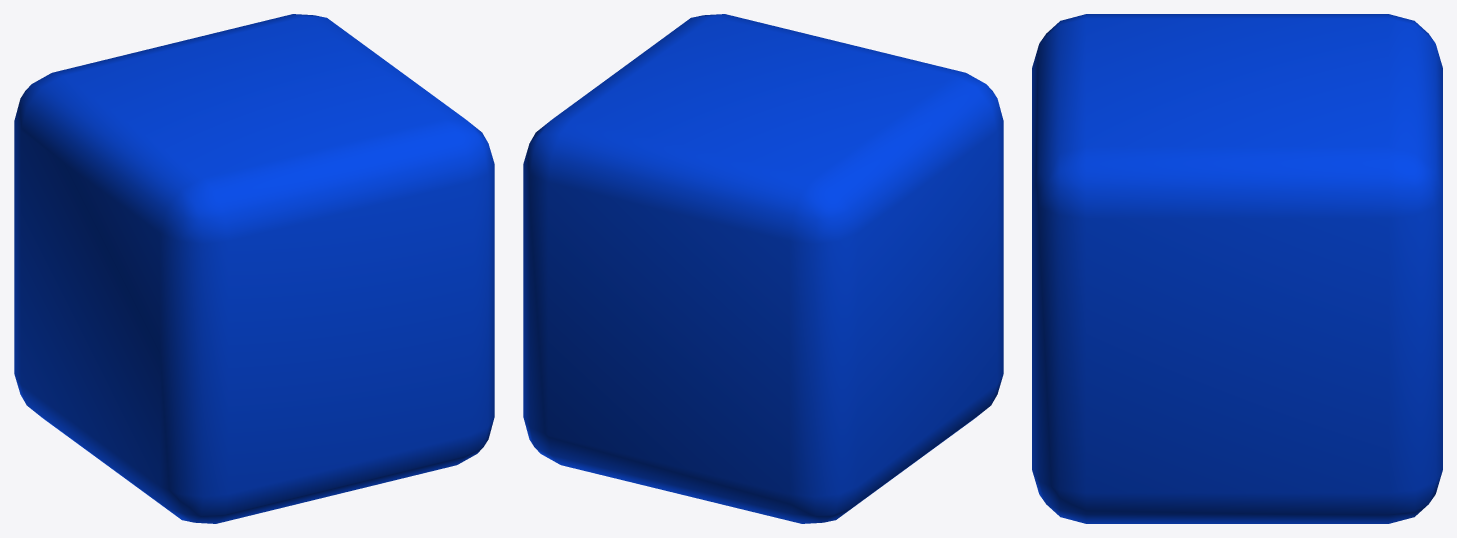
File: Cubeunit.fbx
3 views of the same model, side by side, from view 1: azimuth 30°, elevation 25°; view 2: azimuth 150°, elevation 25°; view 3: azimuth 270°, elevation 25° (orthographic). The views are drawn at different scales.
Visible parts, largest first — view 1: cubeunit; view 2: cubeunit; view 3: cubeunit.
Boxes of the visible parts, <box> form: cubeunit: <box>14,14,494,523</box>; cubeunit: <box>523,14,1003,523</box>; cubeunit: <box>1032,14,1442,523</box>.
Bounding box in the file's own units: 1.31 × 1.31 × 1.31.
